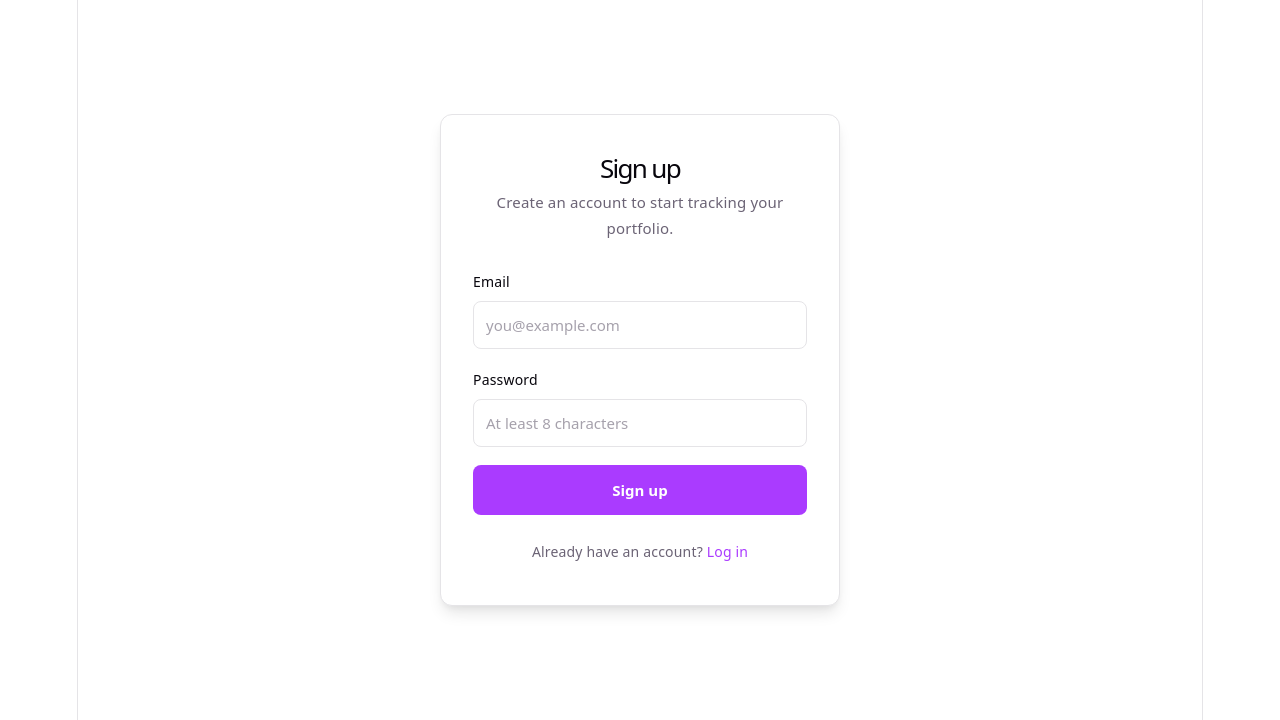
Test case: SignupPage › shows an inline error when the email is already registered
Type "taken@example.com" into the field labelled "Email". click: (640, 325)
box: 473,301 -> 807,349
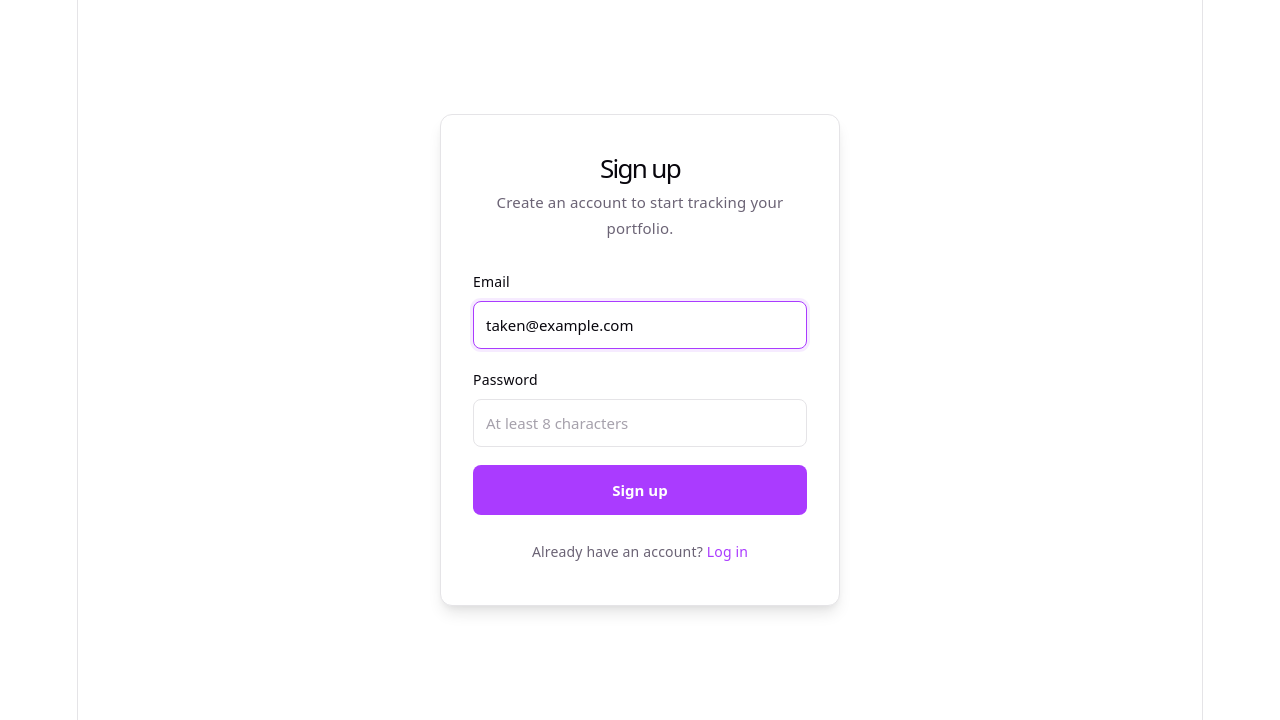
Type "password123" into the password field labelled "Password". click: (640, 423)
box: 473,399 -> 807,447
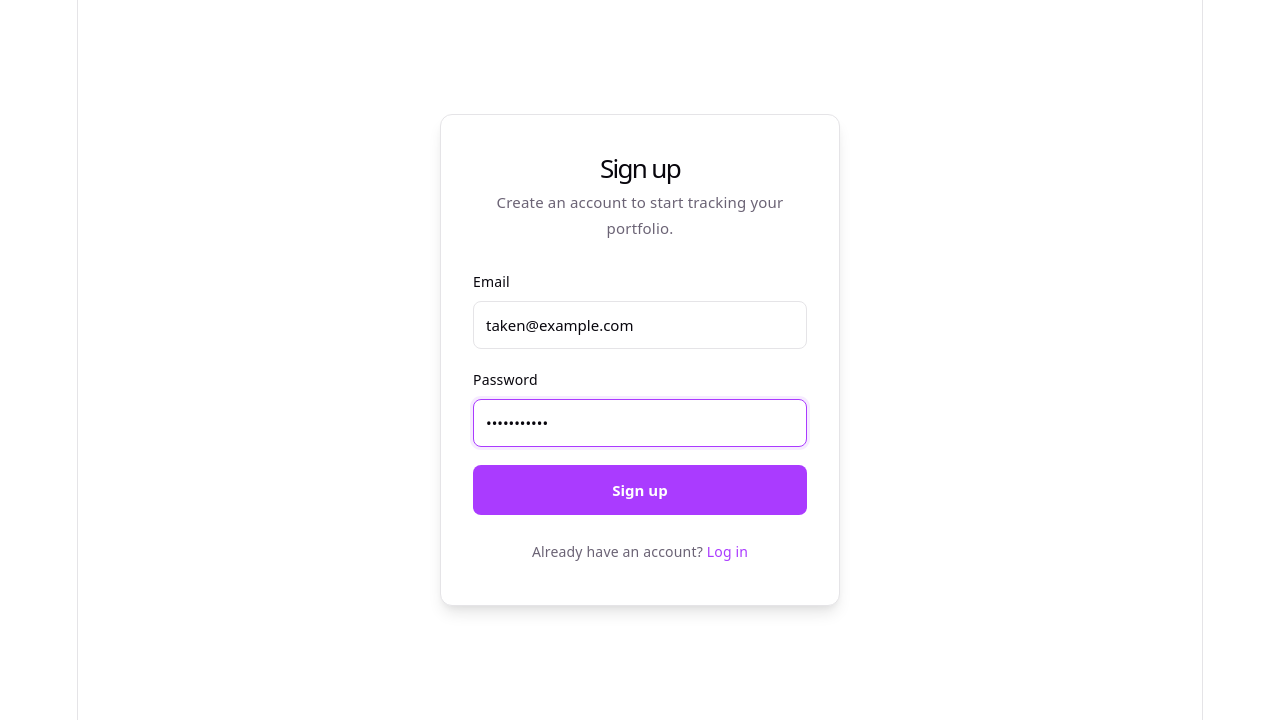
Click the button "Sign up". click: (640, 490)
box: 473,465 -> 807,515
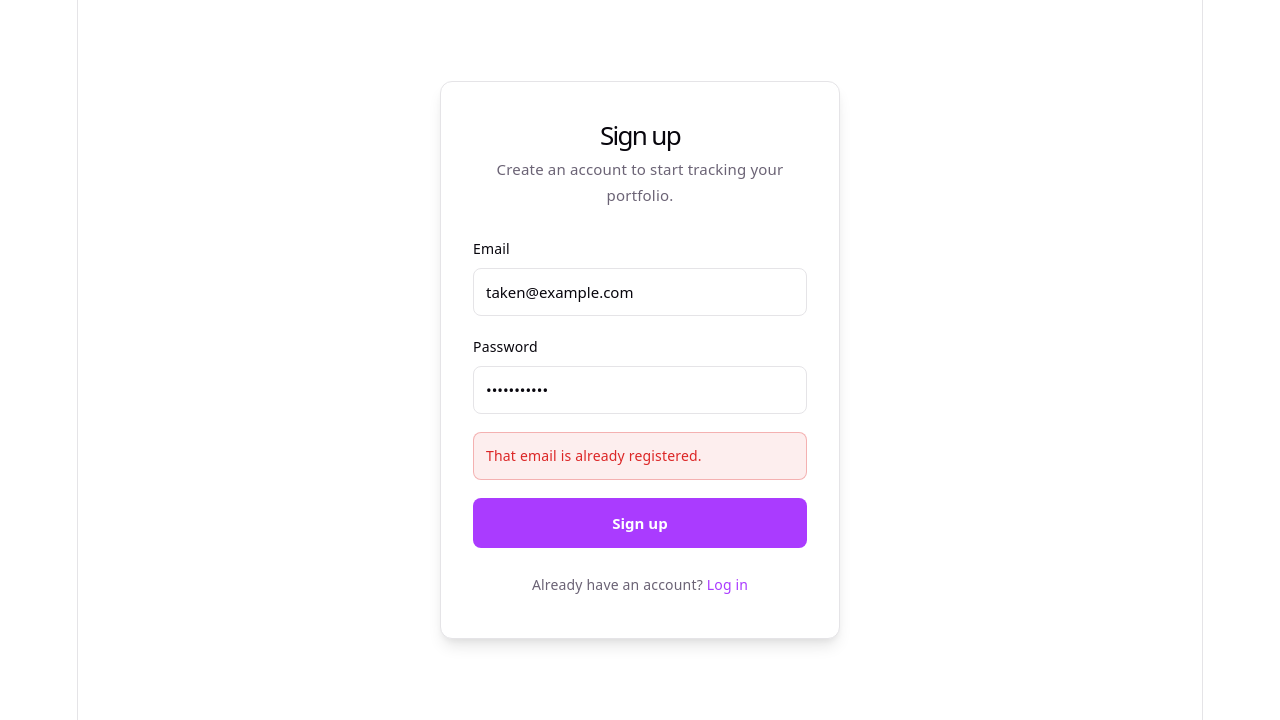
Check: the text "That email is already registered." is shown, box 473,432 -> 807,480
